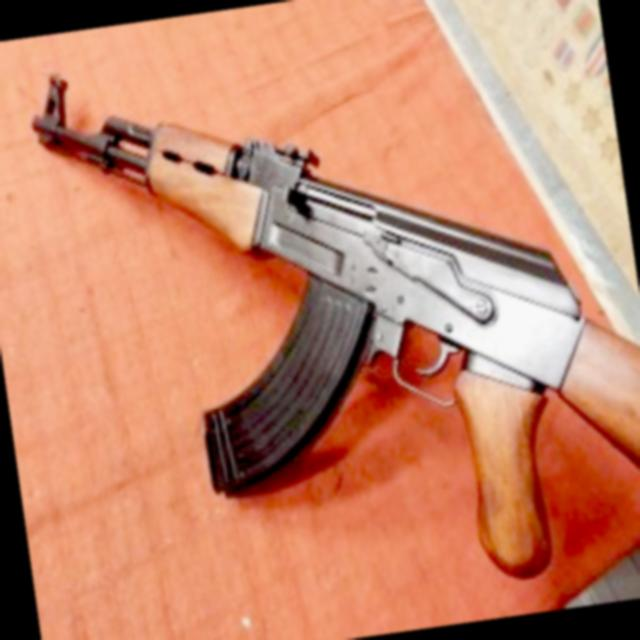ak: (11, 0, 640, 638)
